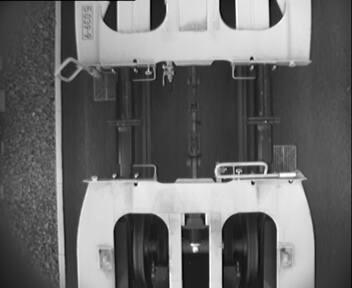Copy of Copy of wagon_scan: (100, 208, 291, 288)
